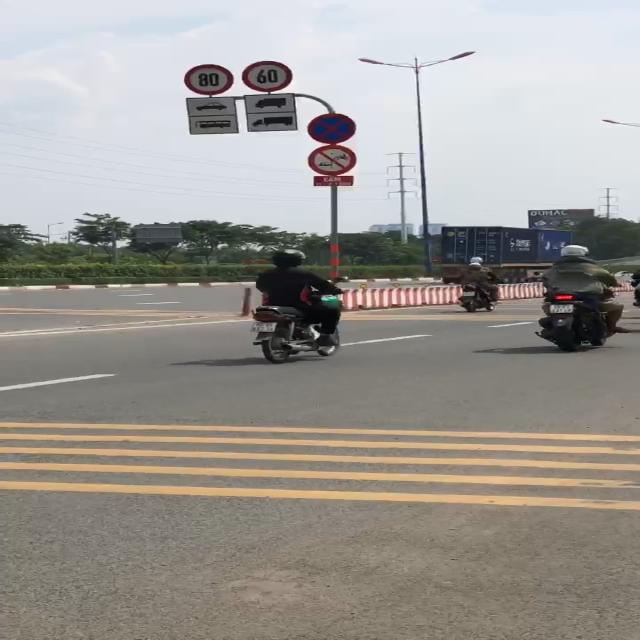Bien bao cam dung xe va do xe: (304, 111, 364, 145)
Bien bao toc do toi da cho phep: (235, 59, 301, 93), (179, 62, 239, 96)
